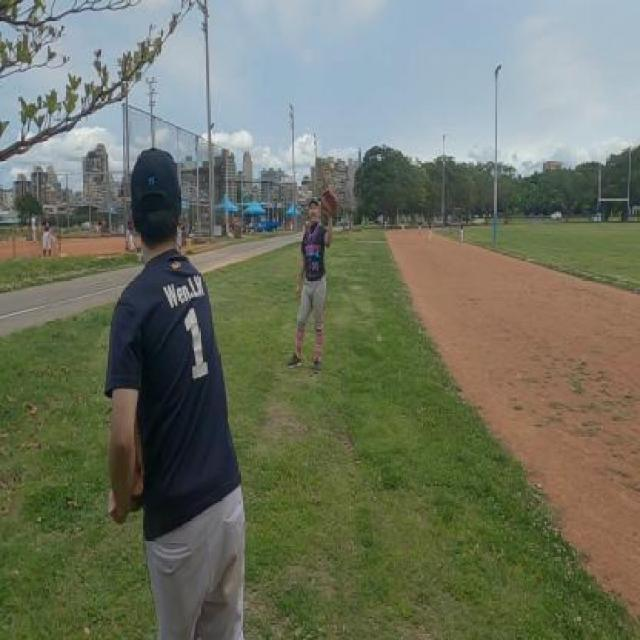baseball: (330, 162, 335, 172)
